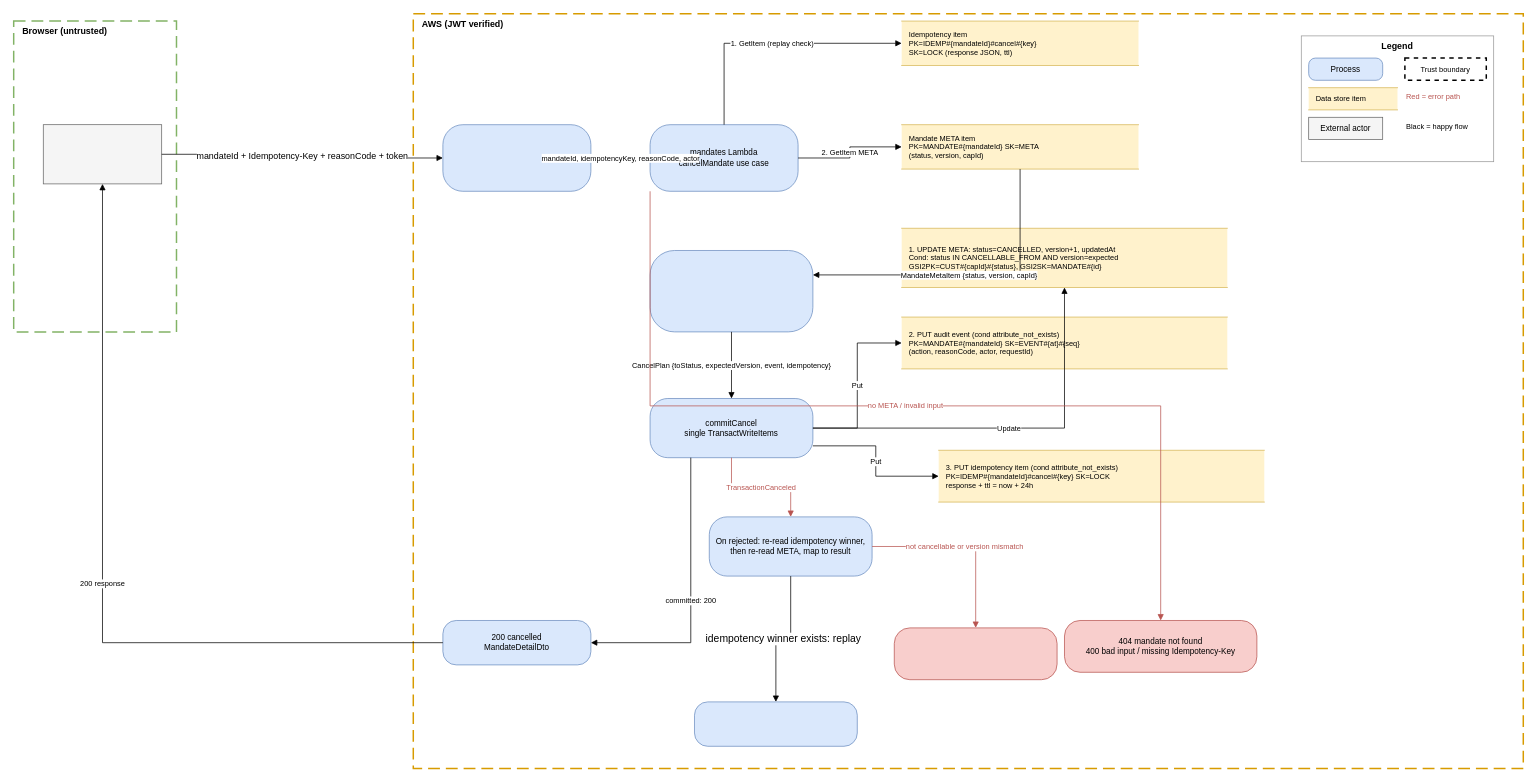
Some shapes in this 1536 by 781 pixel diagram are drawn without their labels. The box of each missing label's shape, as (x1, y1, x2, y2) in pixels:
200 replayed stored response (same body): (694, 701, 857, 746)
409 invalid transition (not cancellable) / 409 version conflict: (894, 627, 1057, 680)
API Gateway HTTP API v2 POST mandate cancel (zod: reasonCode MD16): (442, 124, 591, 191)
Banker SPA Confirm cancel dialog: (43, 124, 162, 184)
planCancel nextStatus(status, cancel) build event + idempotency, version+1: (649, 250, 813, 332)
